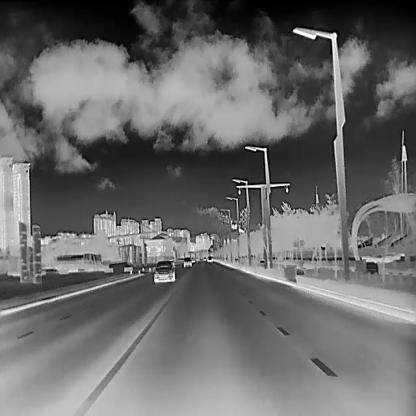car: (53, 252, 94, 271), (153, 259, 175, 281), (183, 256, 192, 266), (206, 254, 213, 262), (202, 255, 206, 261), (191, 256, 195, 262)
